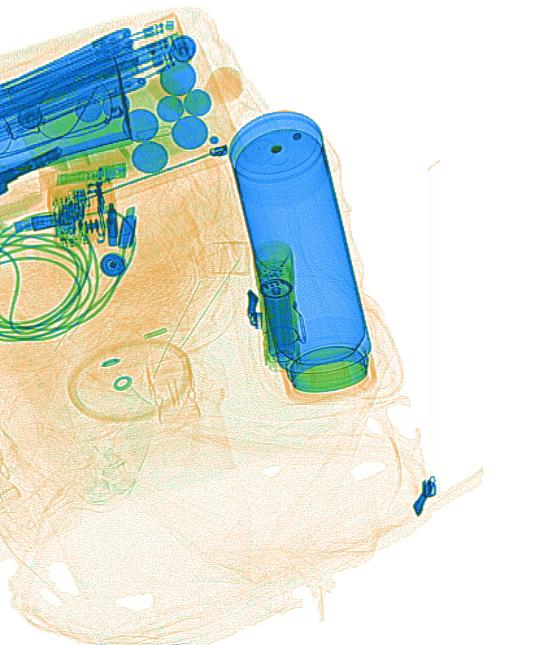USBFlashDisk: (54, 161, 127, 186)
battery: (261, 290, 298, 362)
